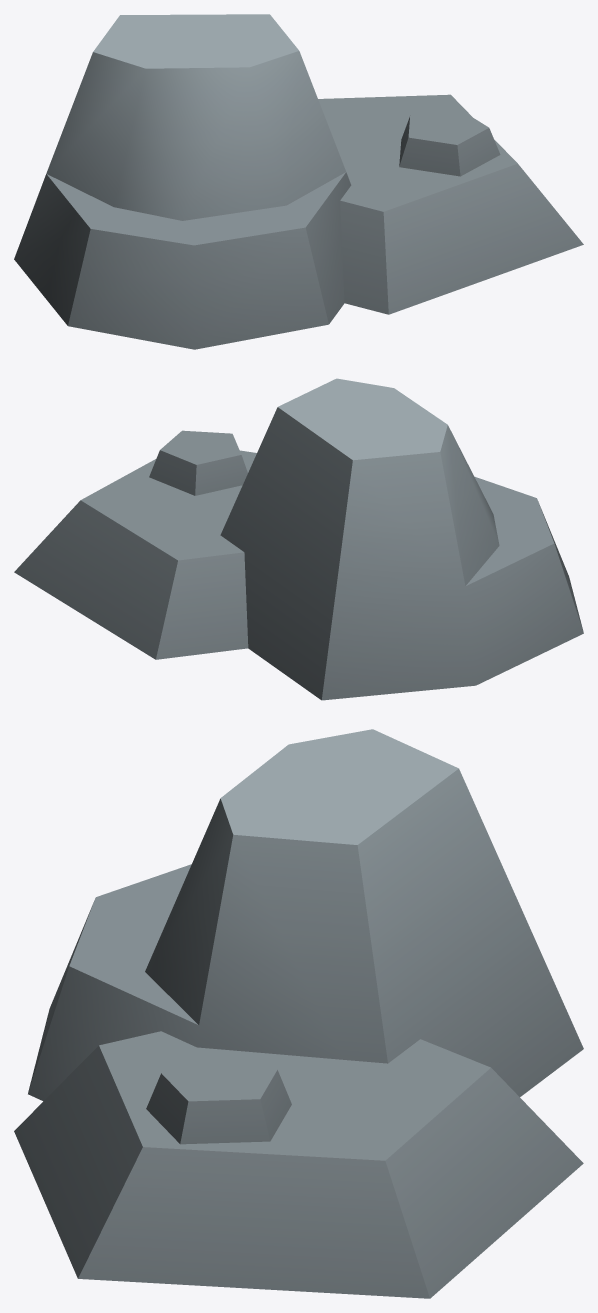
File: hex-rock_single_E.glb
The picture shows the model from 3 angles, top to bottom: view 1: azimuth 30°, elevation 25°; view 2: azimuth 150°, elevation 25°; view 3: azimuth 270°, elevation 25°; orthographic projection. The views are drawn at different scales.
Parts seen in each view (by area): view 1: rock_single_E; view 2: rock_single_E; view 3: rock_single_E.
Part boxes in pixels (x1,y1,x2,y2): rock_single_E: (14, 14, 583, 349); rock_single_E: (14, 378, 583, 700); rock_single_E: (14, 729, 583, 1298).
Size of the model in its own units: 0.4881 by 0.1948 by 0.3475.
1 material, 1 textured.
